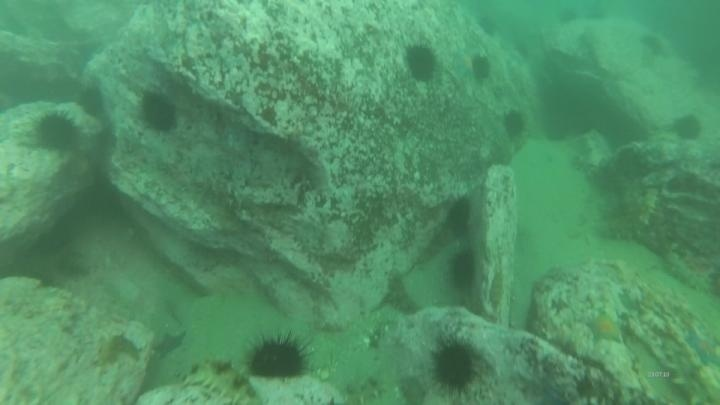echinus: (244, 331, 312, 383), (427, 334, 483, 397), (32, 110, 81, 154), (137, 89, 180, 135), (445, 248, 480, 293), (402, 42, 440, 83), (443, 194, 475, 237), (75, 85, 107, 119), (670, 113, 704, 143), (500, 108, 529, 140), (638, 31, 670, 60), (469, 53, 494, 83), (475, 13, 501, 39)
holothurian: (661, 335, 718, 405), (183, 356, 258, 404), (335, 371, 405, 404), (634, 185, 663, 229)
starfish: (584, 310, 627, 347), (683, 326, 720, 369), (152, 328, 188, 360), (449, 45, 478, 82)
